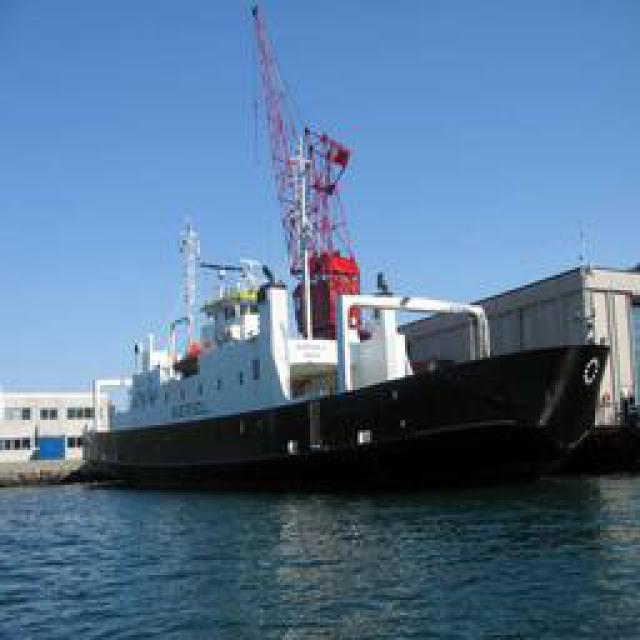Ship: (74, 64, 609, 487)
